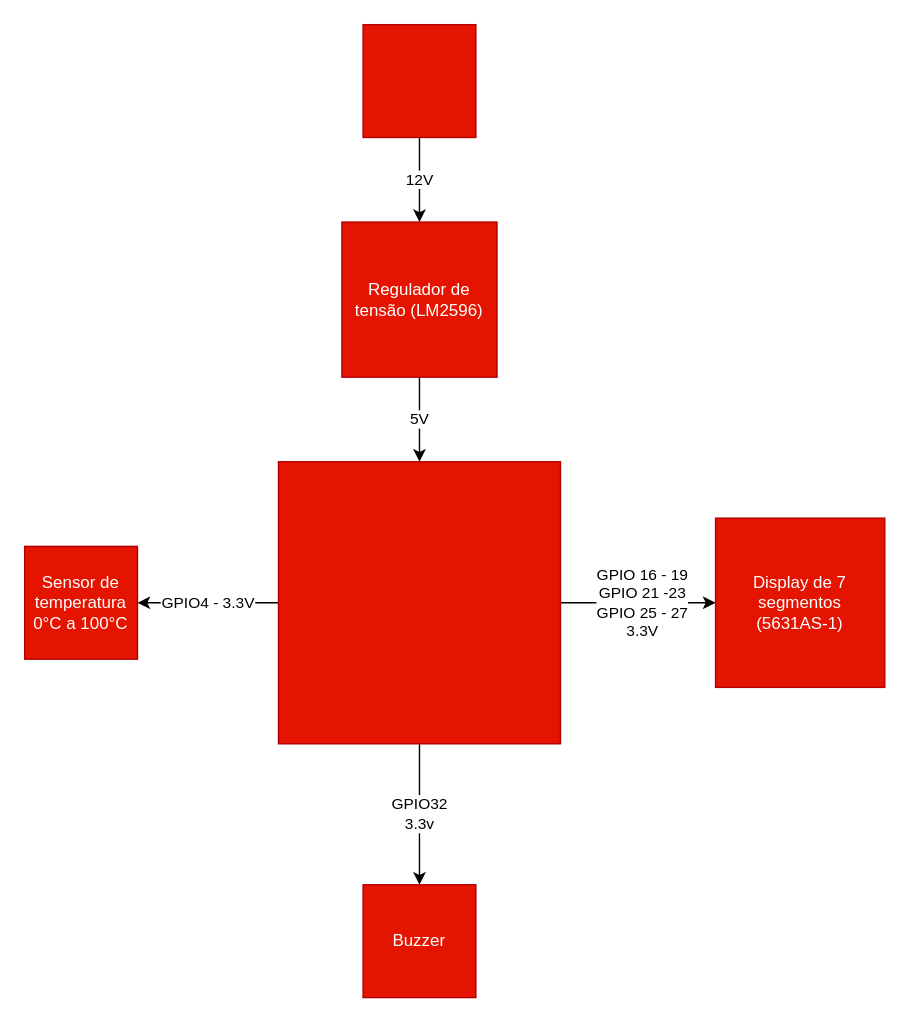
Image size: 909x1022. Some labels were removed from this diagram. Each missing label, with the box of its shape:
Bateria (LiFePO4): (362, 23, 476, 137)
MCU (ESP32): (277, 460, 560, 744)
